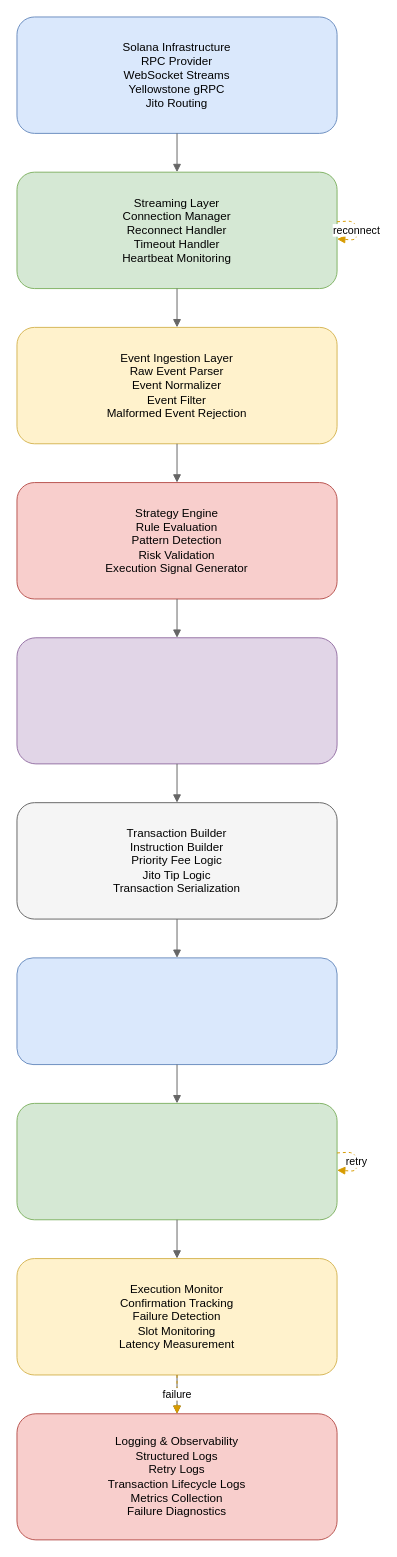
Image size: 397x1557. Some labels were removed from this diagram. The shapes that lost their labels are listed below. From the top down, each one's box as (x1, y1, x2, y2) in pixels, then its label:
(16, 637, 337, 764): Execution Signal Token Action Buy/Sell Amount Slippage Priority Settings
(16, 957, 337, 1065): Signing Layer Wallet Loader Signer Transaction Validation
(16, 1102, 337, 1220): Execution Engine RPC Submission Jito Submission Retry Logic Duplicate Prevention
